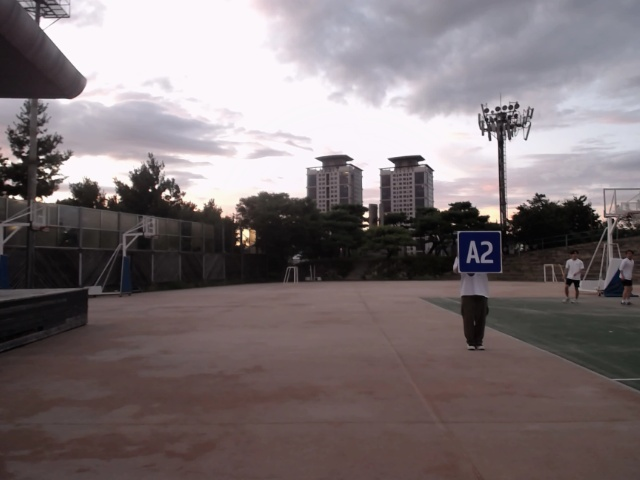delivery_a2: (458, 231, 502, 272)
